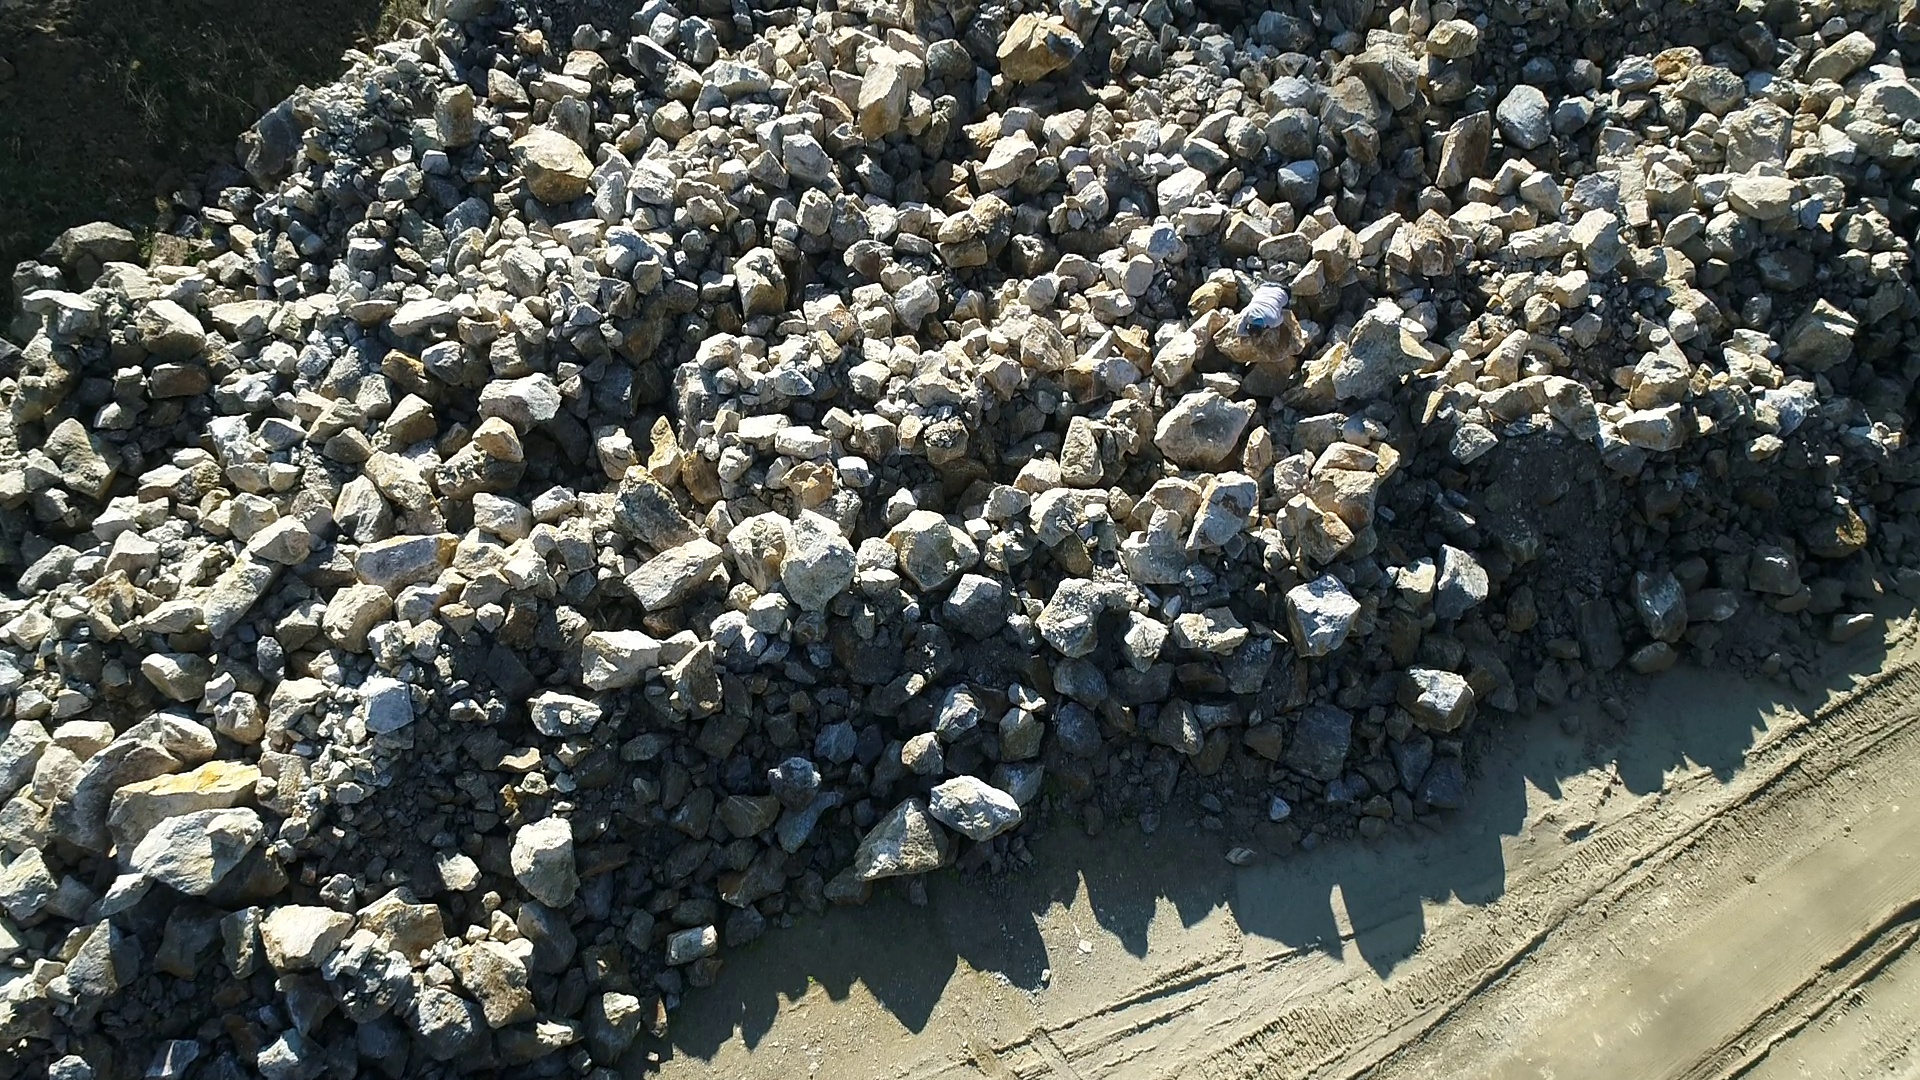person: (1233, 281, 1293, 342)
